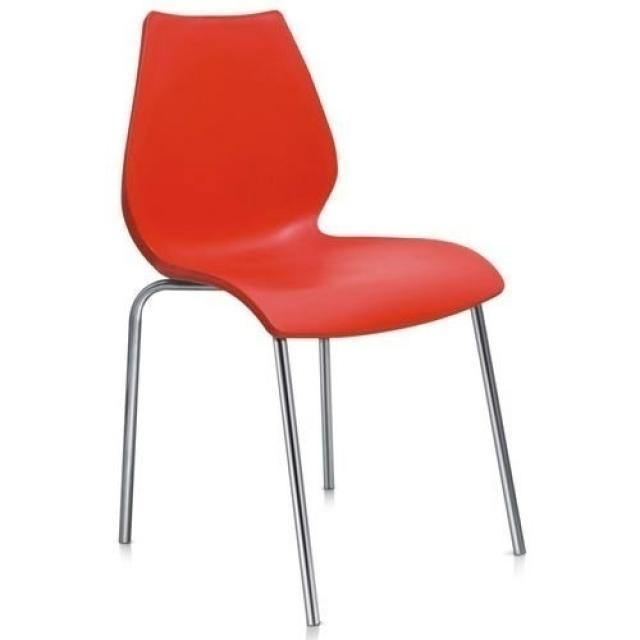chair: (113, 8, 532, 630)
